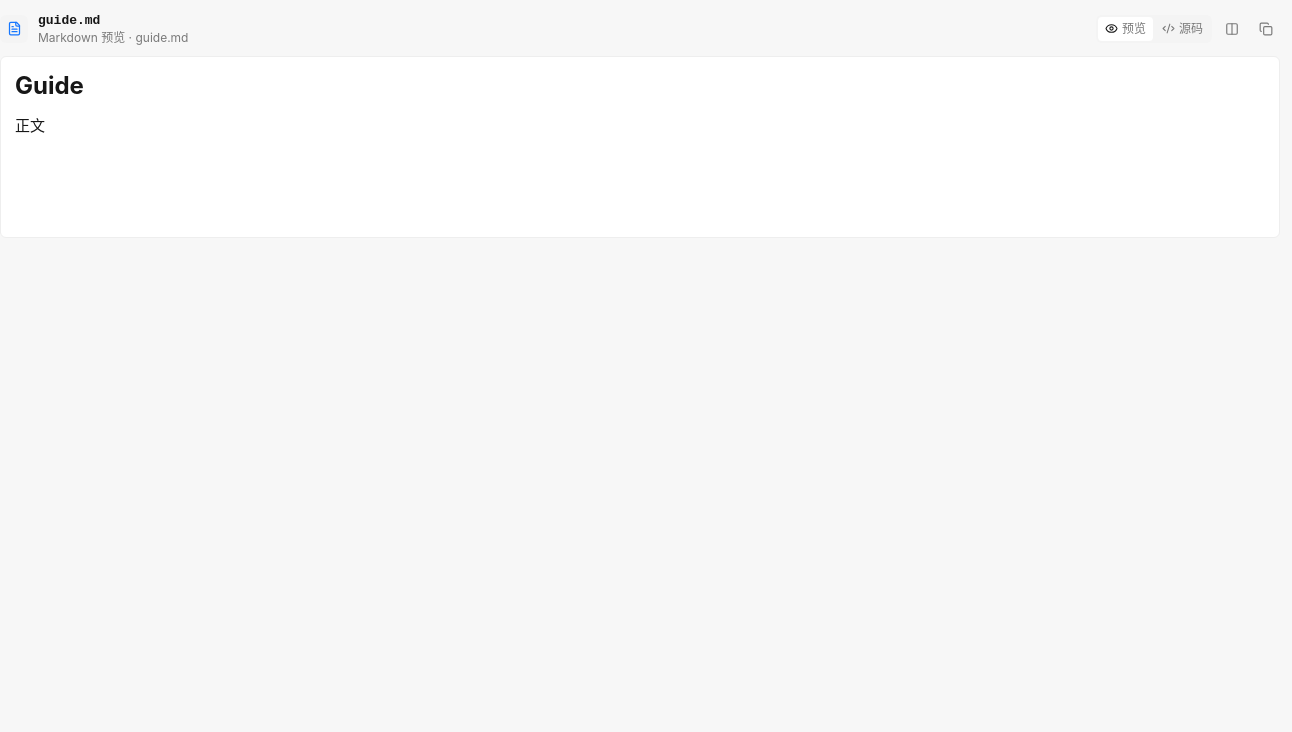
FilePreview › shows markdown source and rendered preview side by side
Expected: the heading "Guide" is shown, [15, 71, 84, 100]
Step 1. Click the button named "打开分屏预览" → (1232, 29), box [1218, 15, 1246, 43]
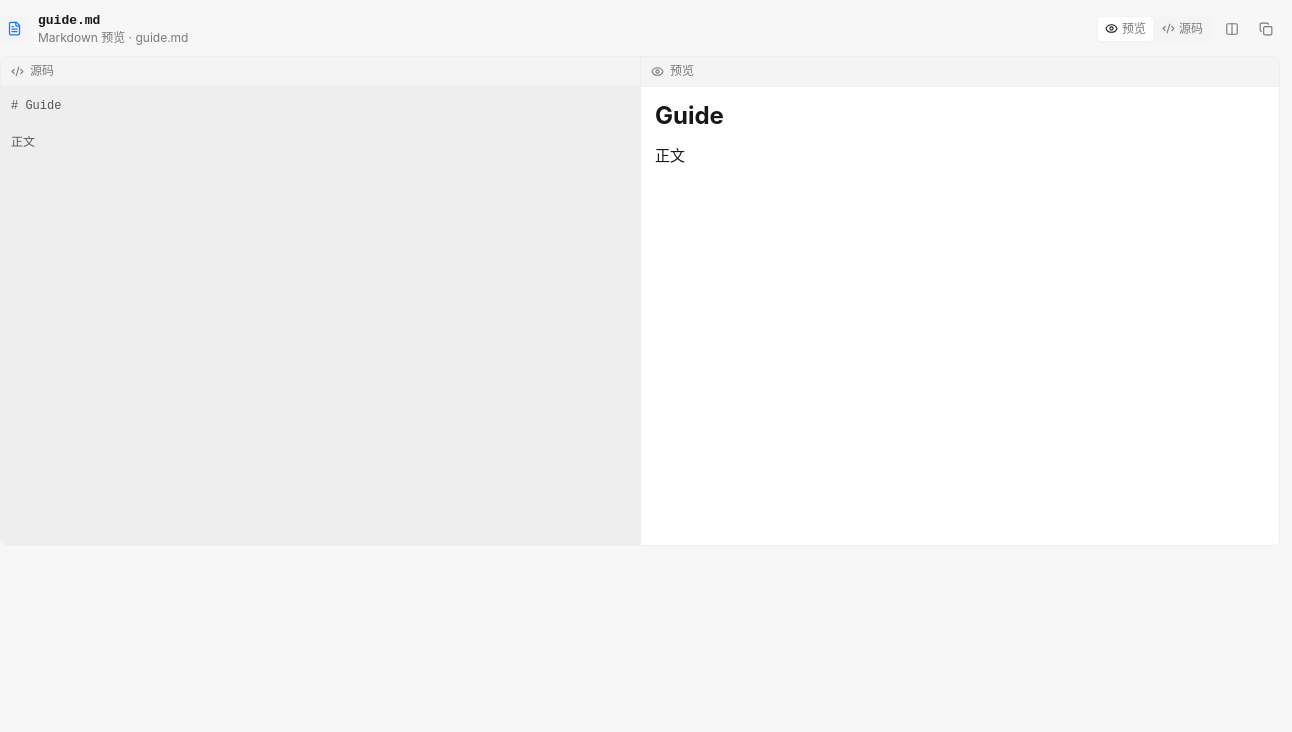
Expected: the element with test id "preview-split-pane" is shown
Expected: the element named "源码内容" shows "# Guide", [11, 99, 61, 150]
Expected: the element named "渲染预览" shows "正文", [655, 146, 685, 165]
